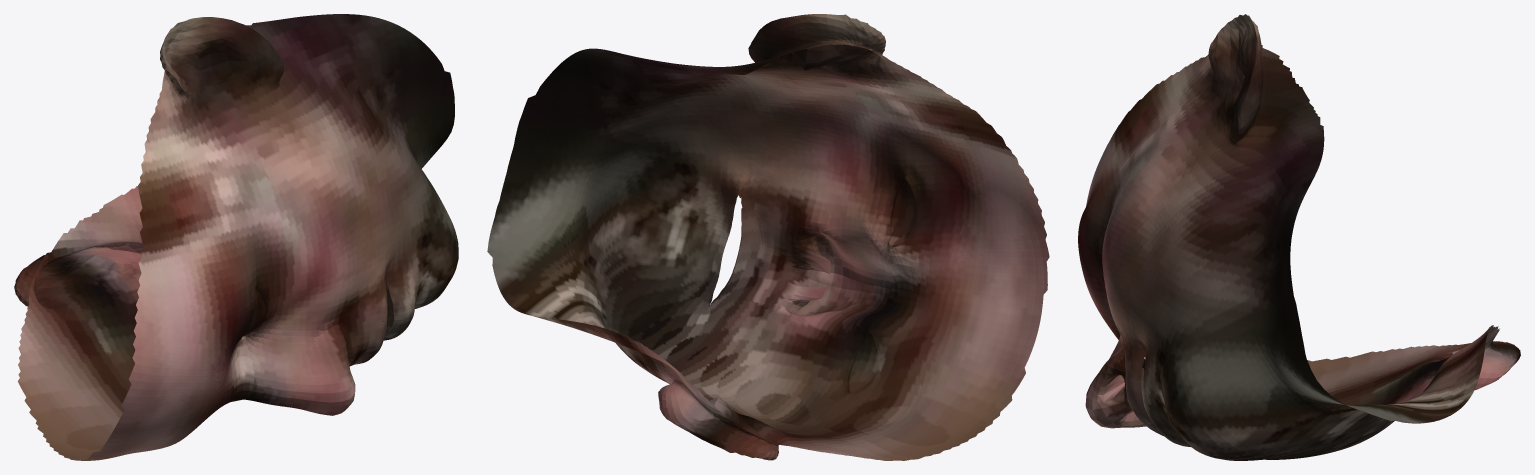
The model's file is 34crop_0.obj.
3 renders of one model, left to right at view 1: azimuth 30°, elevation 25°; view 2: azimuth 150°, elevation 25°; view 3: azimuth 270°, elevation 25°, orthographic. The views are drawn at different scales.
Size of the model in its own units: 71.1 by 62.69 by 60.95.
